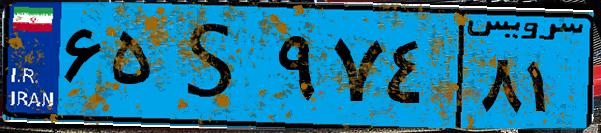1: (525, 38, 570, 115)
4: (385, 28, 445, 110)
5: (110, 28, 158, 98)
6: (57, 26, 110, 100)
7: (330, 28, 385, 110)
8: (475, 38, 525, 113)
9: (270, 28, 330, 110)
S: (158, 12, 270, 120)
